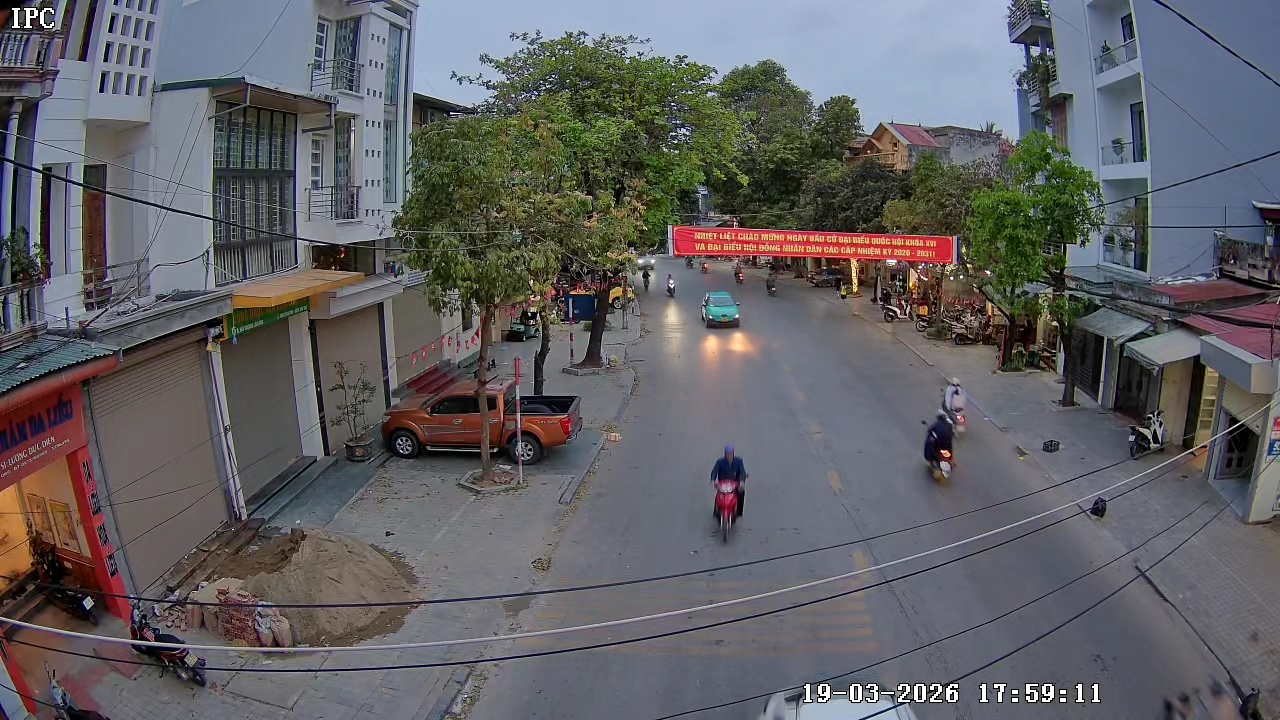car: (701, 289, 743, 329)
motorbike: (705, 443, 751, 545), (919, 404, 959, 485), (939, 376, 970, 437)
truck: (379, 371, 583, 461)
